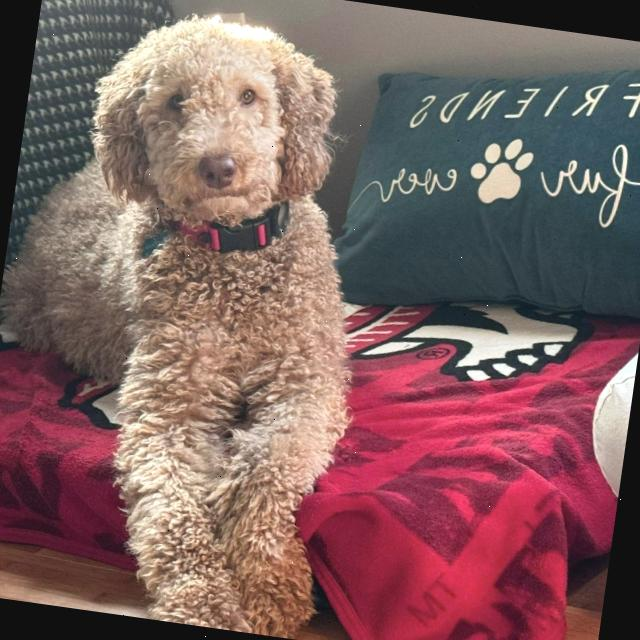Poodle_dog: (59, 0, 379, 315)
